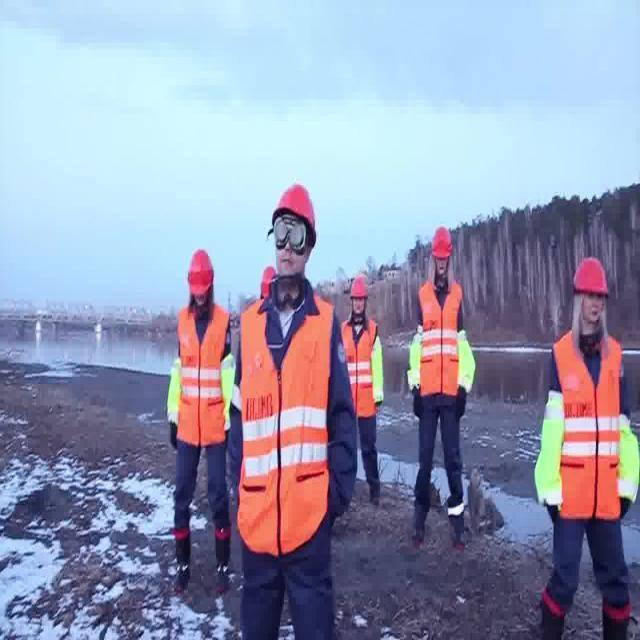red helmet: (273, 181, 320, 240), (183, 248, 218, 301), (572, 255, 614, 299), (428, 226, 455, 261), (257, 264, 279, 303), (347, 274, 374, 301)
